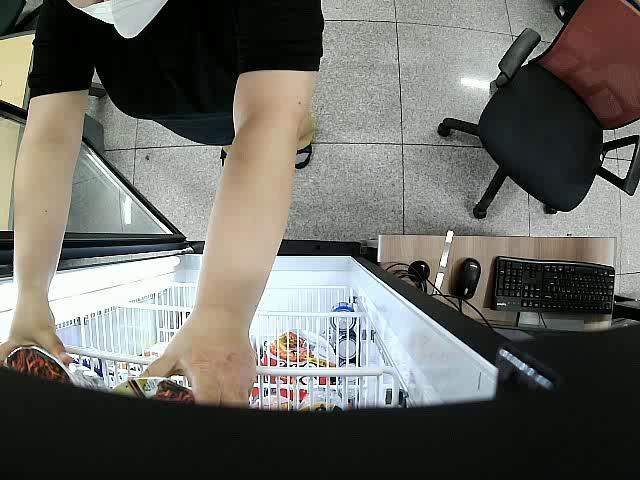00_hand: (140, 327, 257, 405), (0, 289, 75, 364)
03_chapagetti_L: (0, 349, 106, 397), (109, 375, 195, 408)
